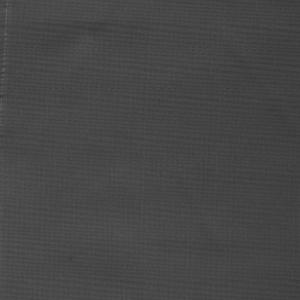Wrinkle: (22, 1, 134, 131), (208, 16, 300, 155)
